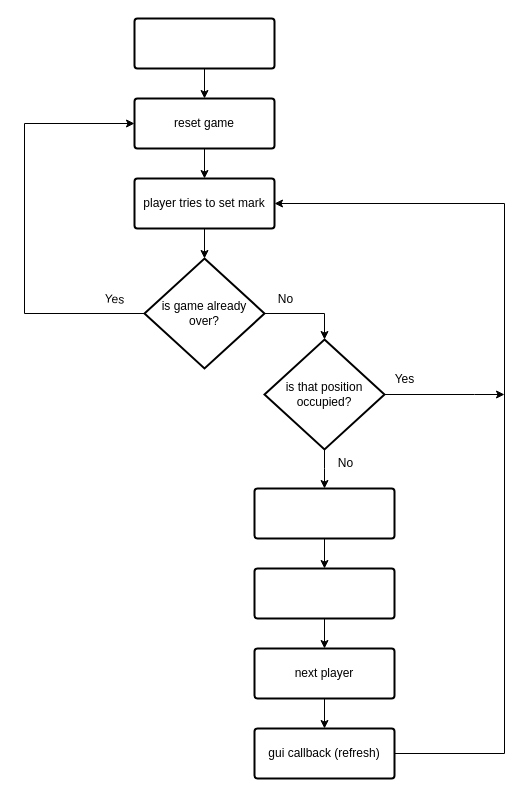
This 530x796 diagram has some shape labels left out. The centre of each missing label's shape, as x and y in pixels:
check game over: the point at 324,593
set mark on selected pos: the point at 324,513
START: the point at 204,43
